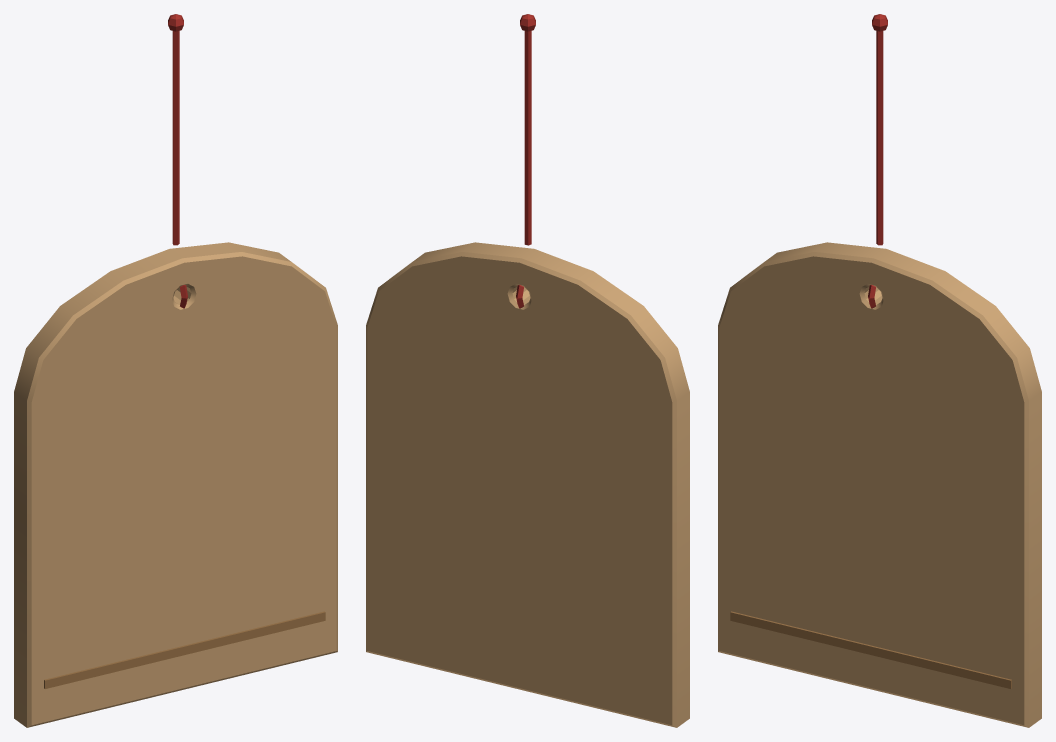
Rendered from prayer-card.glb.
3 views of the same model, side by side, from view 1: azimuth 30°, elevation 25°; view 2: azimuth 150°, elevation 25°; view 3: azimuth 330°, elevation 25° (orthographic).
Parts seen in each view (by area): view 1: plaque0, plaqueEdge1, cord2; view 2: plaque0, cord2; view 3: plaque0, plaqueEdge1, cord2.
Part boxes in pixels (box(x1,y1,x2,y2)): plaque0: box(14, 242, 337, 727); plaqueEdge1: box(44, 611, 325, 688); cord2: box(172, 31, 179, 245); plaque0: box(366, 242, 689, 727); cord2: box(524, 31, 531, 245); plaque0: box(718, 242, 1041, 727); plaqueEdge1: box(730, 611, 1011, 688); cord2: box(876, 31, 883, 245).
Size of the model in its own units: 0.153 by 0.3155 by 0.0182.
